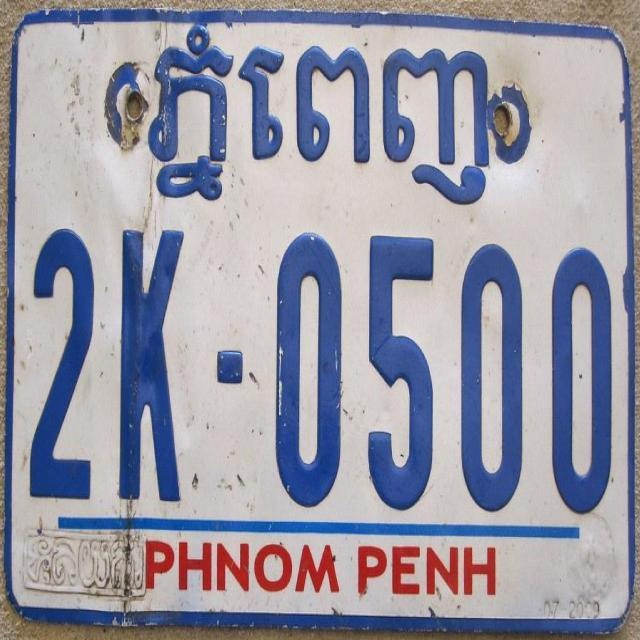Phnom_Penh: (149, 22, 488, 211)
